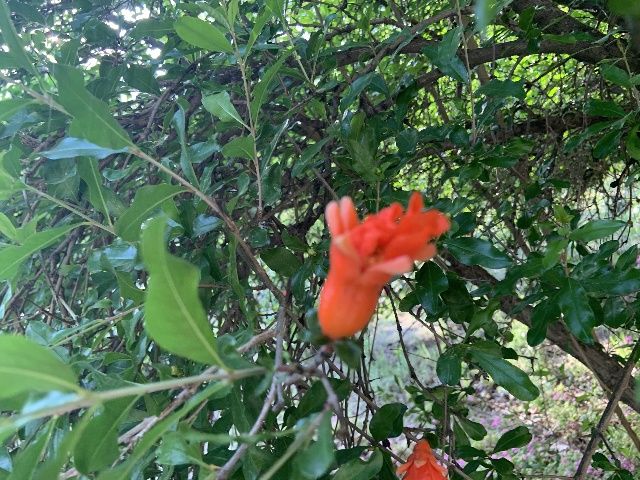flower: (317, 190, 451, 338), (395, 438, 449, 479)
